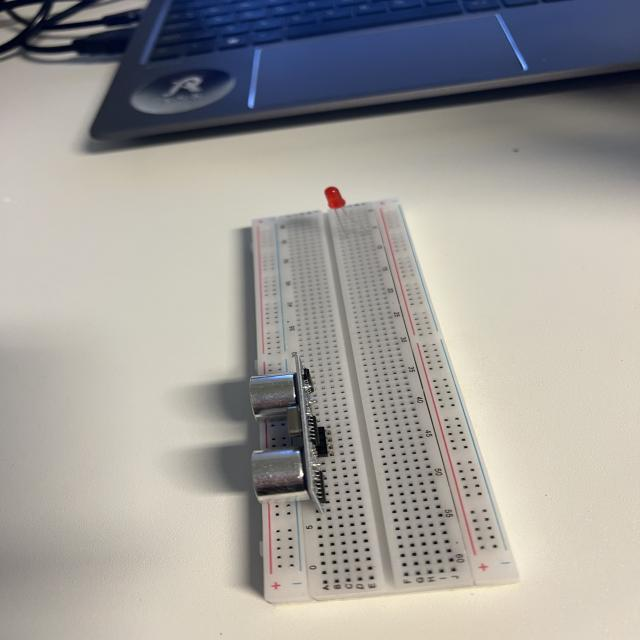BreadBoard: (252, 194, 527, 606)
REDLed: (319, 181, 380, 242)
UltrasoneSensor: (247, 361, 334, 513)
